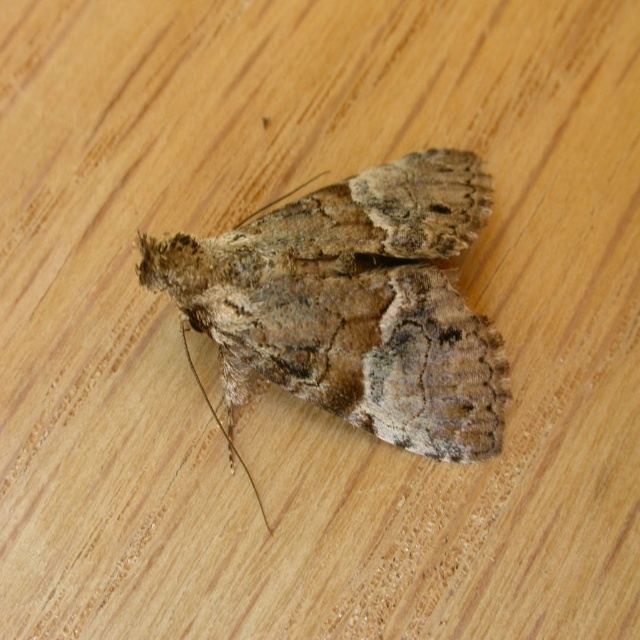Moths and butterflies: (121, 146, 522, 539)
